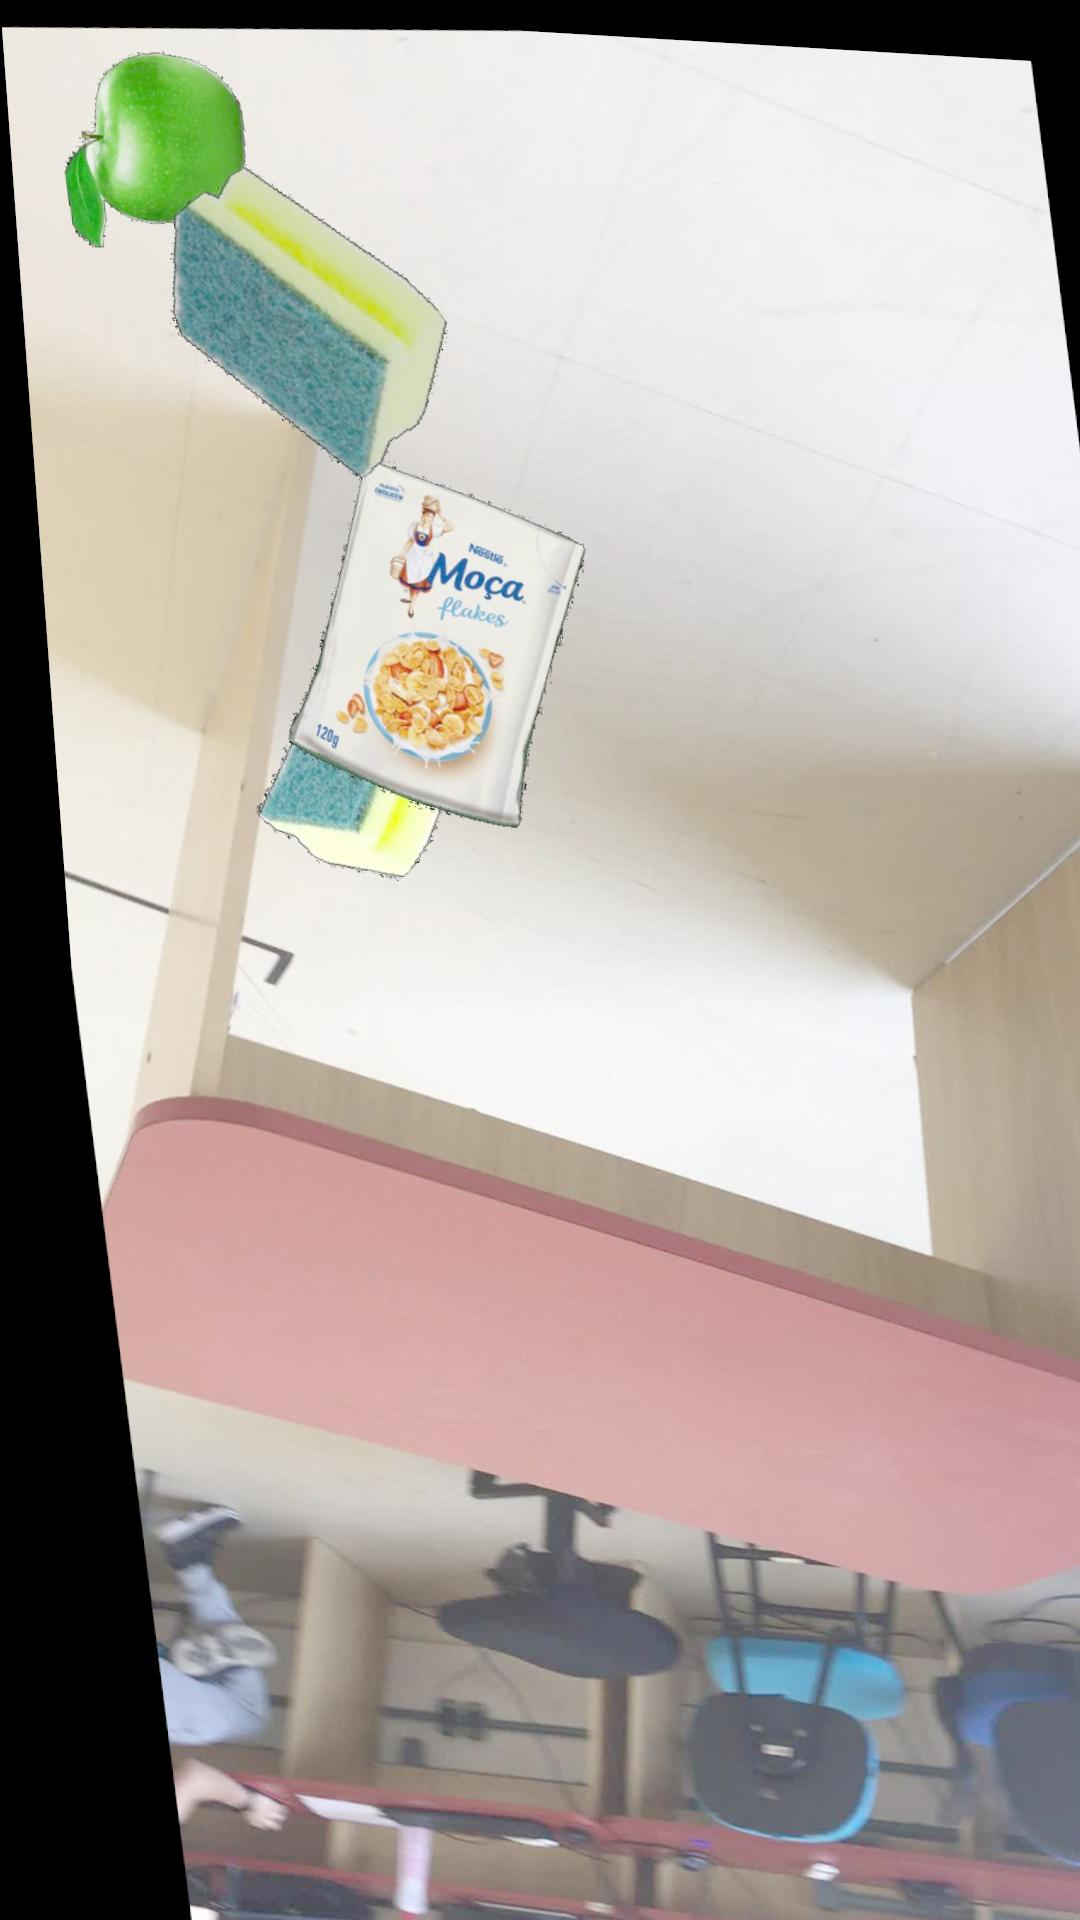corn flakes: (276, 460, 575, 823)
green apple: (61, 51, 241, 248)
sponge: (166, 165, 440, 475), (243, 742, 426, 874)
